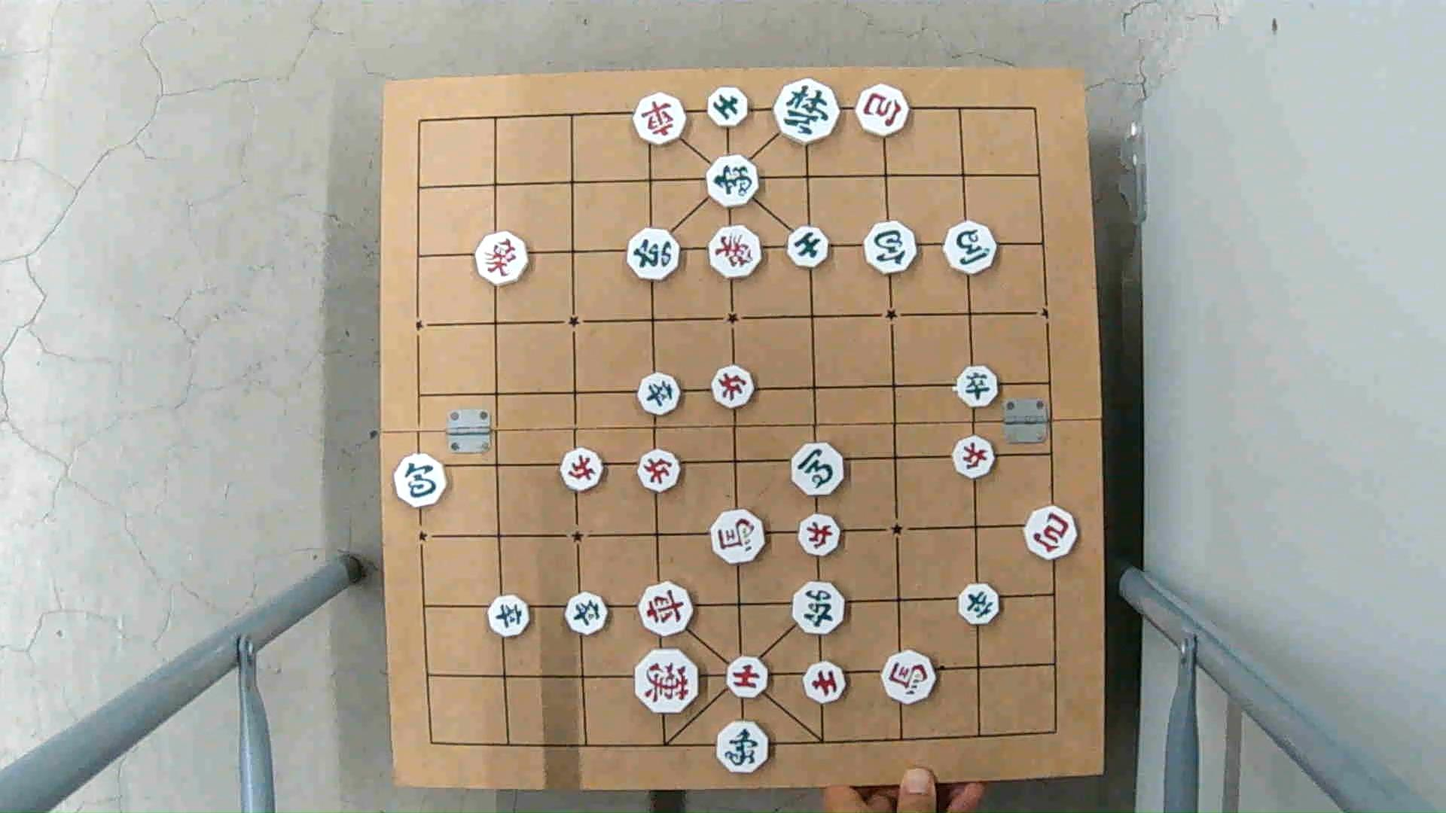cha_green: (790, 580, 844, 633), (624, 230, 682, 279)
cha_red: (637, 587, 694, 635), (632, 95, 688, 143)
jol_green: (561, 591, 609, 634), (486, 596, 534, 638), (635, 375, 683, 413), (954, 368, 1001, 406), (956, 583, 1002, 620)
jol_red: (796, 516, 845, 556), (709, 367, 757, 407), (558, 449, 606, 488), (635, 451, 684, 489), (950, 438, 996, 476)
ma_green: (787, 443, 844, 494), (944, 227, 1000, 275)
ma_red: (881, 653, 938, 702), (710, 512, 764, 562)
po_green: (392, 458, 448, 507), (861, 223, 917, 271)
po_red: (848, 87, 908, 135), (1022, 507, 1080, 556)
sa_green: (785, 226, 832, 268), (704, 89, 752, 125)
sa_red: (724, 653, 774, 699), (803, 662, 849, 701)
sang_green: (715, 721, 773, 769), (708, 155, 760, 206)
sang_red: (707, 230, 766, 279), (477, 233, 528, 283)
wang_green: (773, 83, 844, 140)
wang_red: (633, 656, 703, 714)
